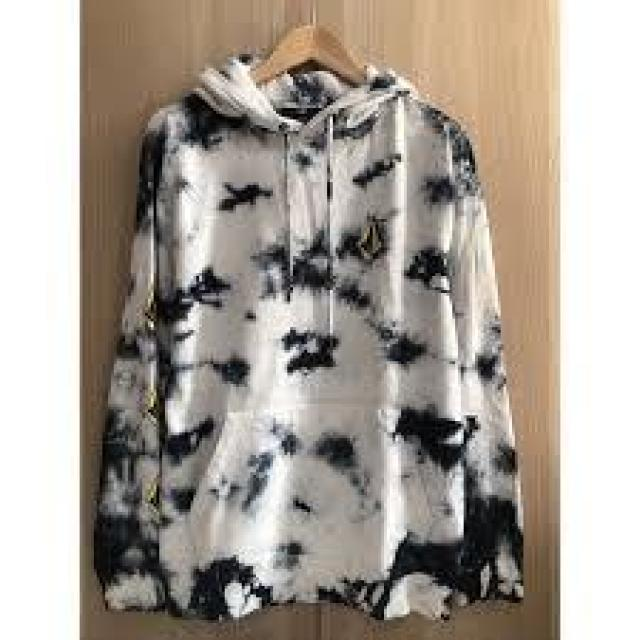sweater: (104, 77, 519, 623)
